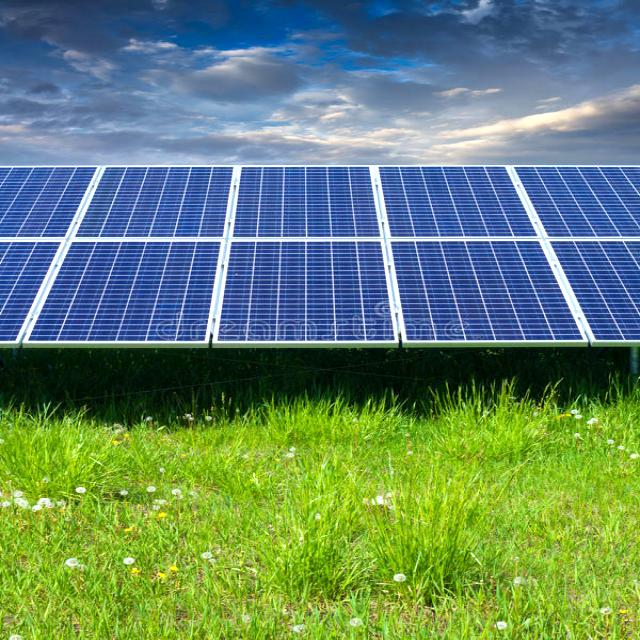crack: (333, 225, 637, 353), (148, 225, 432, 348), (205, 165, 413, 251), (358, 164, 556, 253), (75, 168, 256, 247)
